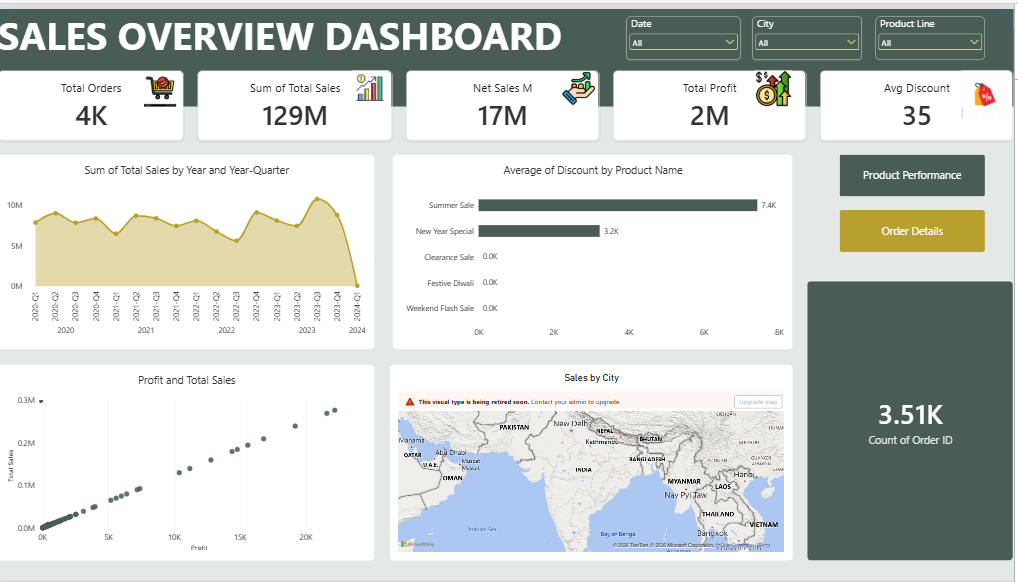

The dashboard page shown, as its layout file describes it:
{"tool":"powerbi","page":{"name":"Overview","canvas":[1920,1080],"ordinal":0},"visuals":[{"type":"shape","box":[0,0,1919.1,184.3],"z":0},{"type":"scatterChart","fields":{"X":["Fact Table.Profit"],"Y":["Fact Table.Total Sales"]},"box":[0,671.8,711.5,371.3],"z":1000},{"type":"lineChart","fields":{"Category":["Calendar.Year","Calendar.Year-Quarter","Calendar.Year-Month","Calendar.Date"],"Y":["Sum(Fact Table.Total Sales)"]},"box":[0,275,711.5,368.5],"z":2000},{"type":"barChart","title":"Average of Discount by Product Name","fields":{"Category":["Dim Promotion.Promotion Name"],"Y":["Avg(Fact Table.Discount)"]},"box":[745.5,275,756.9,368.5],"z":3000},{"type":"filledMap","title":"Sales by City","fields":{"Category":["Dim Customers.City"]},"box":[738.4,671.8,762.5,371.3],"z":4000},{"type":"cardVisual","fields":{"Data":["CountNonNull(Fact Table.Order ID)"]},"box":[1527.9,513.1,391.2,530.1],"z":5000},{"type":"textbox","box":[0,0,1116.9,96.4],"z":6000},{"type":"cardVisual","fields":{"Data":["Sum(Fact Table.Total Sales)"]},"box":[377,116.2,368.5,133.2],"z":7000},{"type":"cardVisual","fields":{"Data":["Fact Table.Total Orders"]},"box":[0,116.2,351.5,133.2],"z":8000},{"type":"cardVisual","fields":{"Data":["Fact Table.Total Profit"]},"box":[1162.2,116.2,365.7,133.2],"z":9000},{"type":"cardVisual","fields":{"Data":["Fact Table.Net Sales M"]},"box":[771,116.2,365.7,133.2],"z":10000},{"type":"cardVisual","fields":{"Data":["Fact Table.Avg Discount"]},"box":[1553.4,116.2,365.7,133.2],"z":11000},{"type":"slicer","fields":{"Values":["Fact Table.Date (dd/mm/yyyy).Variation.Date Hierarchy.Year"]},"box":[1187.7,14.2,215.4,82.2],"z":12000},{"type":"slicer","fields":{"Values":["Dim Customers.City"]},"box":[1425.8,14.2,206.9,82.2],"z":13000},{"type":"slicer","fields":{"Values":["Dim Product.Product Line"]},"box":[1658.3,14.2,206.9,82.2],"z":14000},{"type":"actionButton","box":[1590.2,379.8,275,79.4],"z":15000},{"type":"actionButton","box":[1590.2,275,275,79.4],"z":16000},{"type":"image","box":[660.5,116.2,85,68],"z":16002},{"type":"image","box":[1057.3,116.2,79.4,68],"z":16003},{"type":"image","box":[1425.8,116.2,79.4,68],"z":16004},{"type":"image","box":[1811.4,116.2,107.7,90.7],"z":16005},{"type":"image","box":[155.9,119.1,300.5,65.2],"z":16006}]}

Visuals, with their boxes in screenshot pixels (x1, y1, x2, y2), scaled from the page's 1920x1080 canvas onto the 1018x582 screenshot:
shape: region(0, 0, 1017, 99)
scatterChart - Fact Table.Profit x Fact Table.Total Sales: region(0, 362, 377, 562)
lineChart - Calendar.Year x Calendar.Year-Quarter: region(0, 148, 377, 347)
"Average of Discount by Product Name" barChart: region(395, 148, 797, 347)
"Sales by City" filledMap: region(392, 362, 796, 562)
cardVisual - CountNonNull(Fact Table.Order ID): region(810, 277, 1017, 562)
textbox: region(0, 0, 592, 52)
cardVisual - Sum(Fact Table.Total Sales): region(200, 63, 395, 134)
cardVisual - Fact Table.Total Orders: region(0, 63, 186, 134)
cardVisual - Fact Table.Total Profit: region(616, 63, 810, 134)
cardVisual - Fact Table.Net Sales M: region(409, 63, 603, 134)
cardVisual - Fact Table.Avg Discount: region(824, 63, 1017, 134)
slicer - Fact Table.Date (dd/mm/yyyy).Variation.Date Hierarchy.Year: region(630, 8, 744, 52)
slicer - Dim Customers.City: region(756, 8, 866, 52)
slicer - Dim Product.Product Line: region(879, 8, 989, 52)
actionButton: region(843, 205, 989, 247)
actionButton: region(843, 148, 989, 191)
image: region(350, 63, 395, 99)
image: region(561, 63, 603, 99)
image: region(756, 63, 798, 99)
image: region(960, 63, 1017, 111)
image: region(83, 64, 242, 99)
